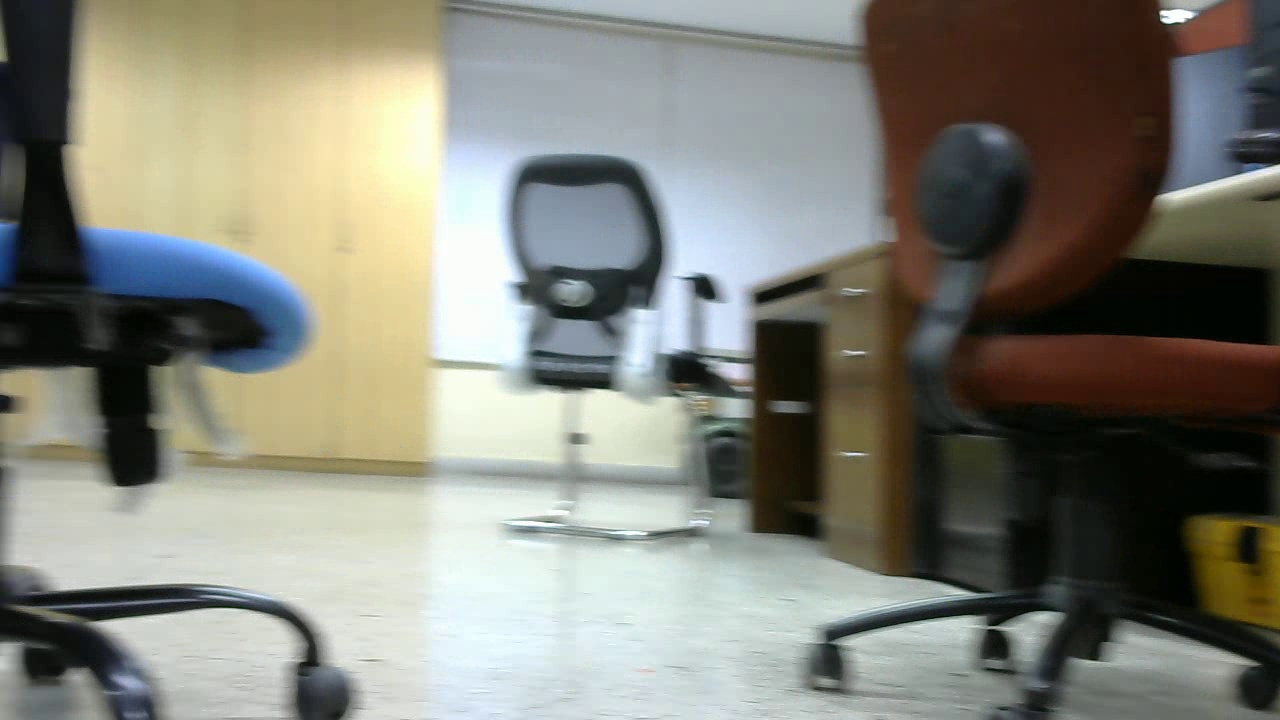chair: (786, 1, 1280, 720), (488, 148, 735, 548)
